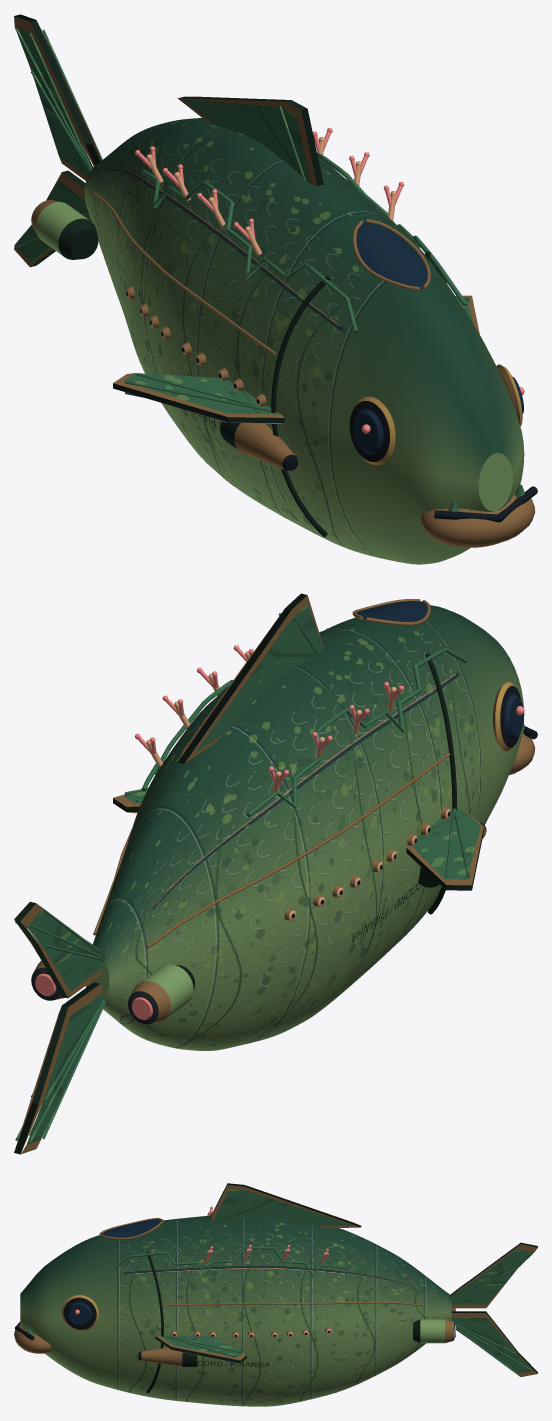
3 renders of one model, top to bottom at view 1: azimuth 30°, elevation 25°; view 2: azimuth 150°, elevation 25°; view 3: azimuth 270°, elevation 25°, orthographic. The views are drawn at different scales.
Parts seen in each view (by area): view 1: piranha_hull; view 2: piranha_hull; view 3: piranha_hull.
Part boxes in pixels (box(x1,y1,x2,y2)): piranha_hull: box(14, 14, 537, 564); piranha_hull: box(14, 593, 537, 1154); piranha_hull: box(14, 1183, 537, 1406).
Bounding box in the file's own units: 6.42 × 6.94 × 15.
Materials: 1 (1 with a texture image).
